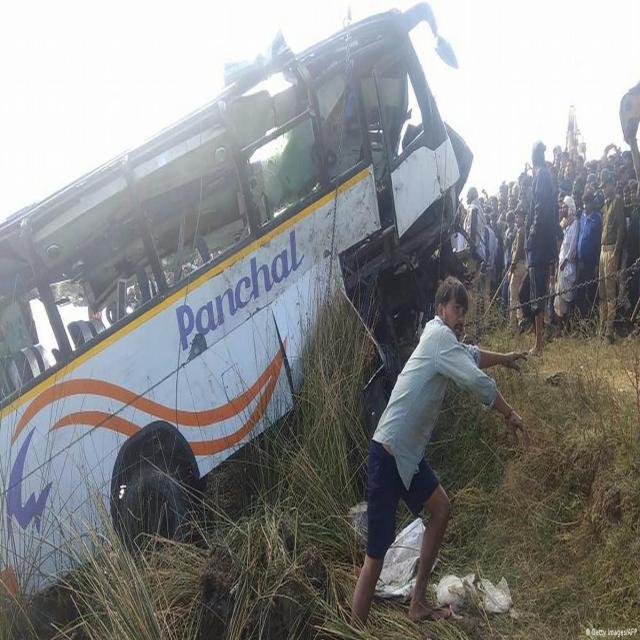accident: (0, 7, 471, 590)
